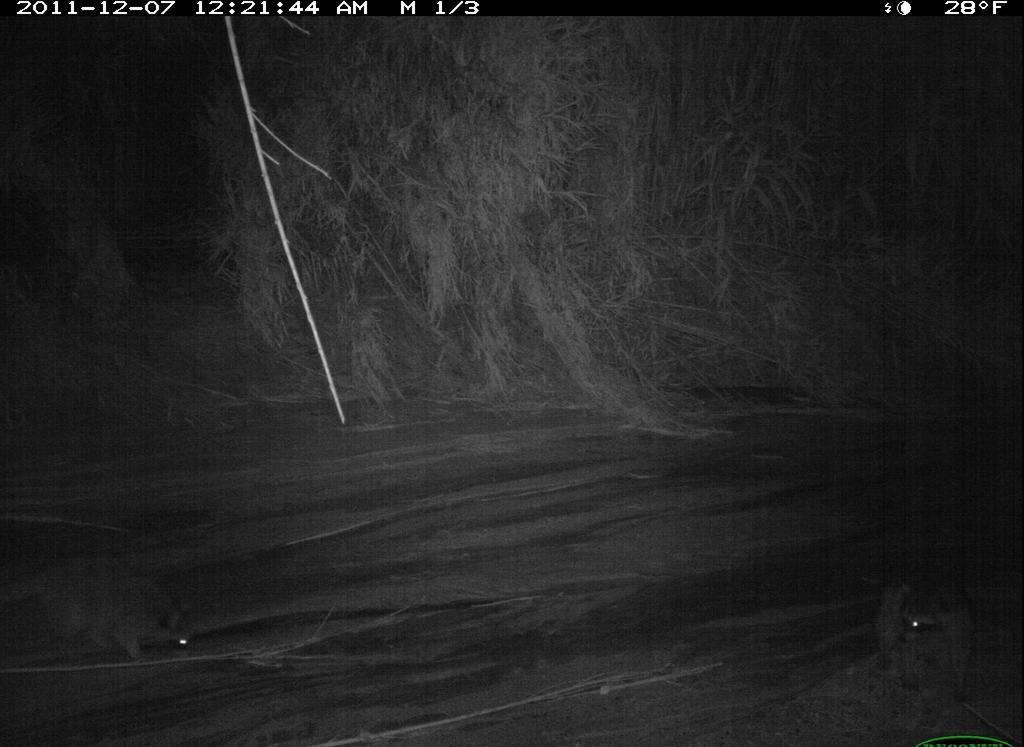raccoon: (7, 547, 204, 676), (858, 551, 986, 716)
